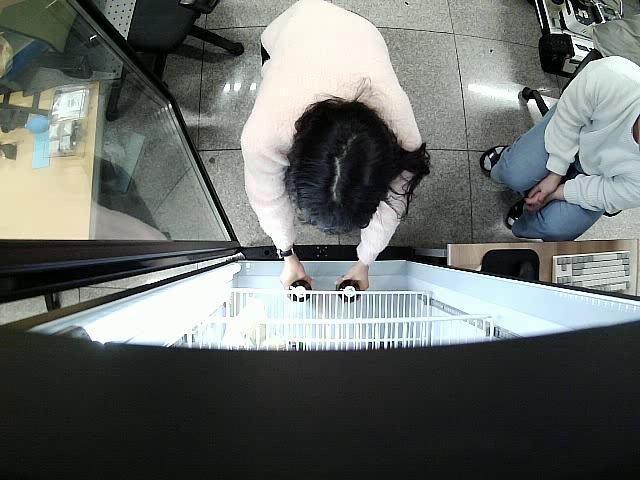19_17cha: (288, 277, 312, 303), (338, 280, 361, 304)
